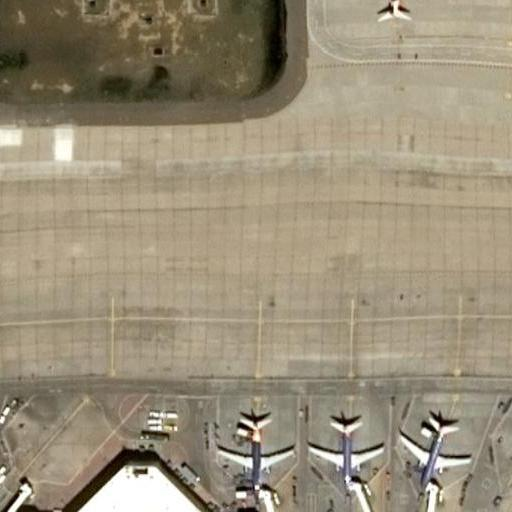Aircraft: (394, 402, 478, 496), (215, 404, 298, 496), (305, 410, 392, 497)
